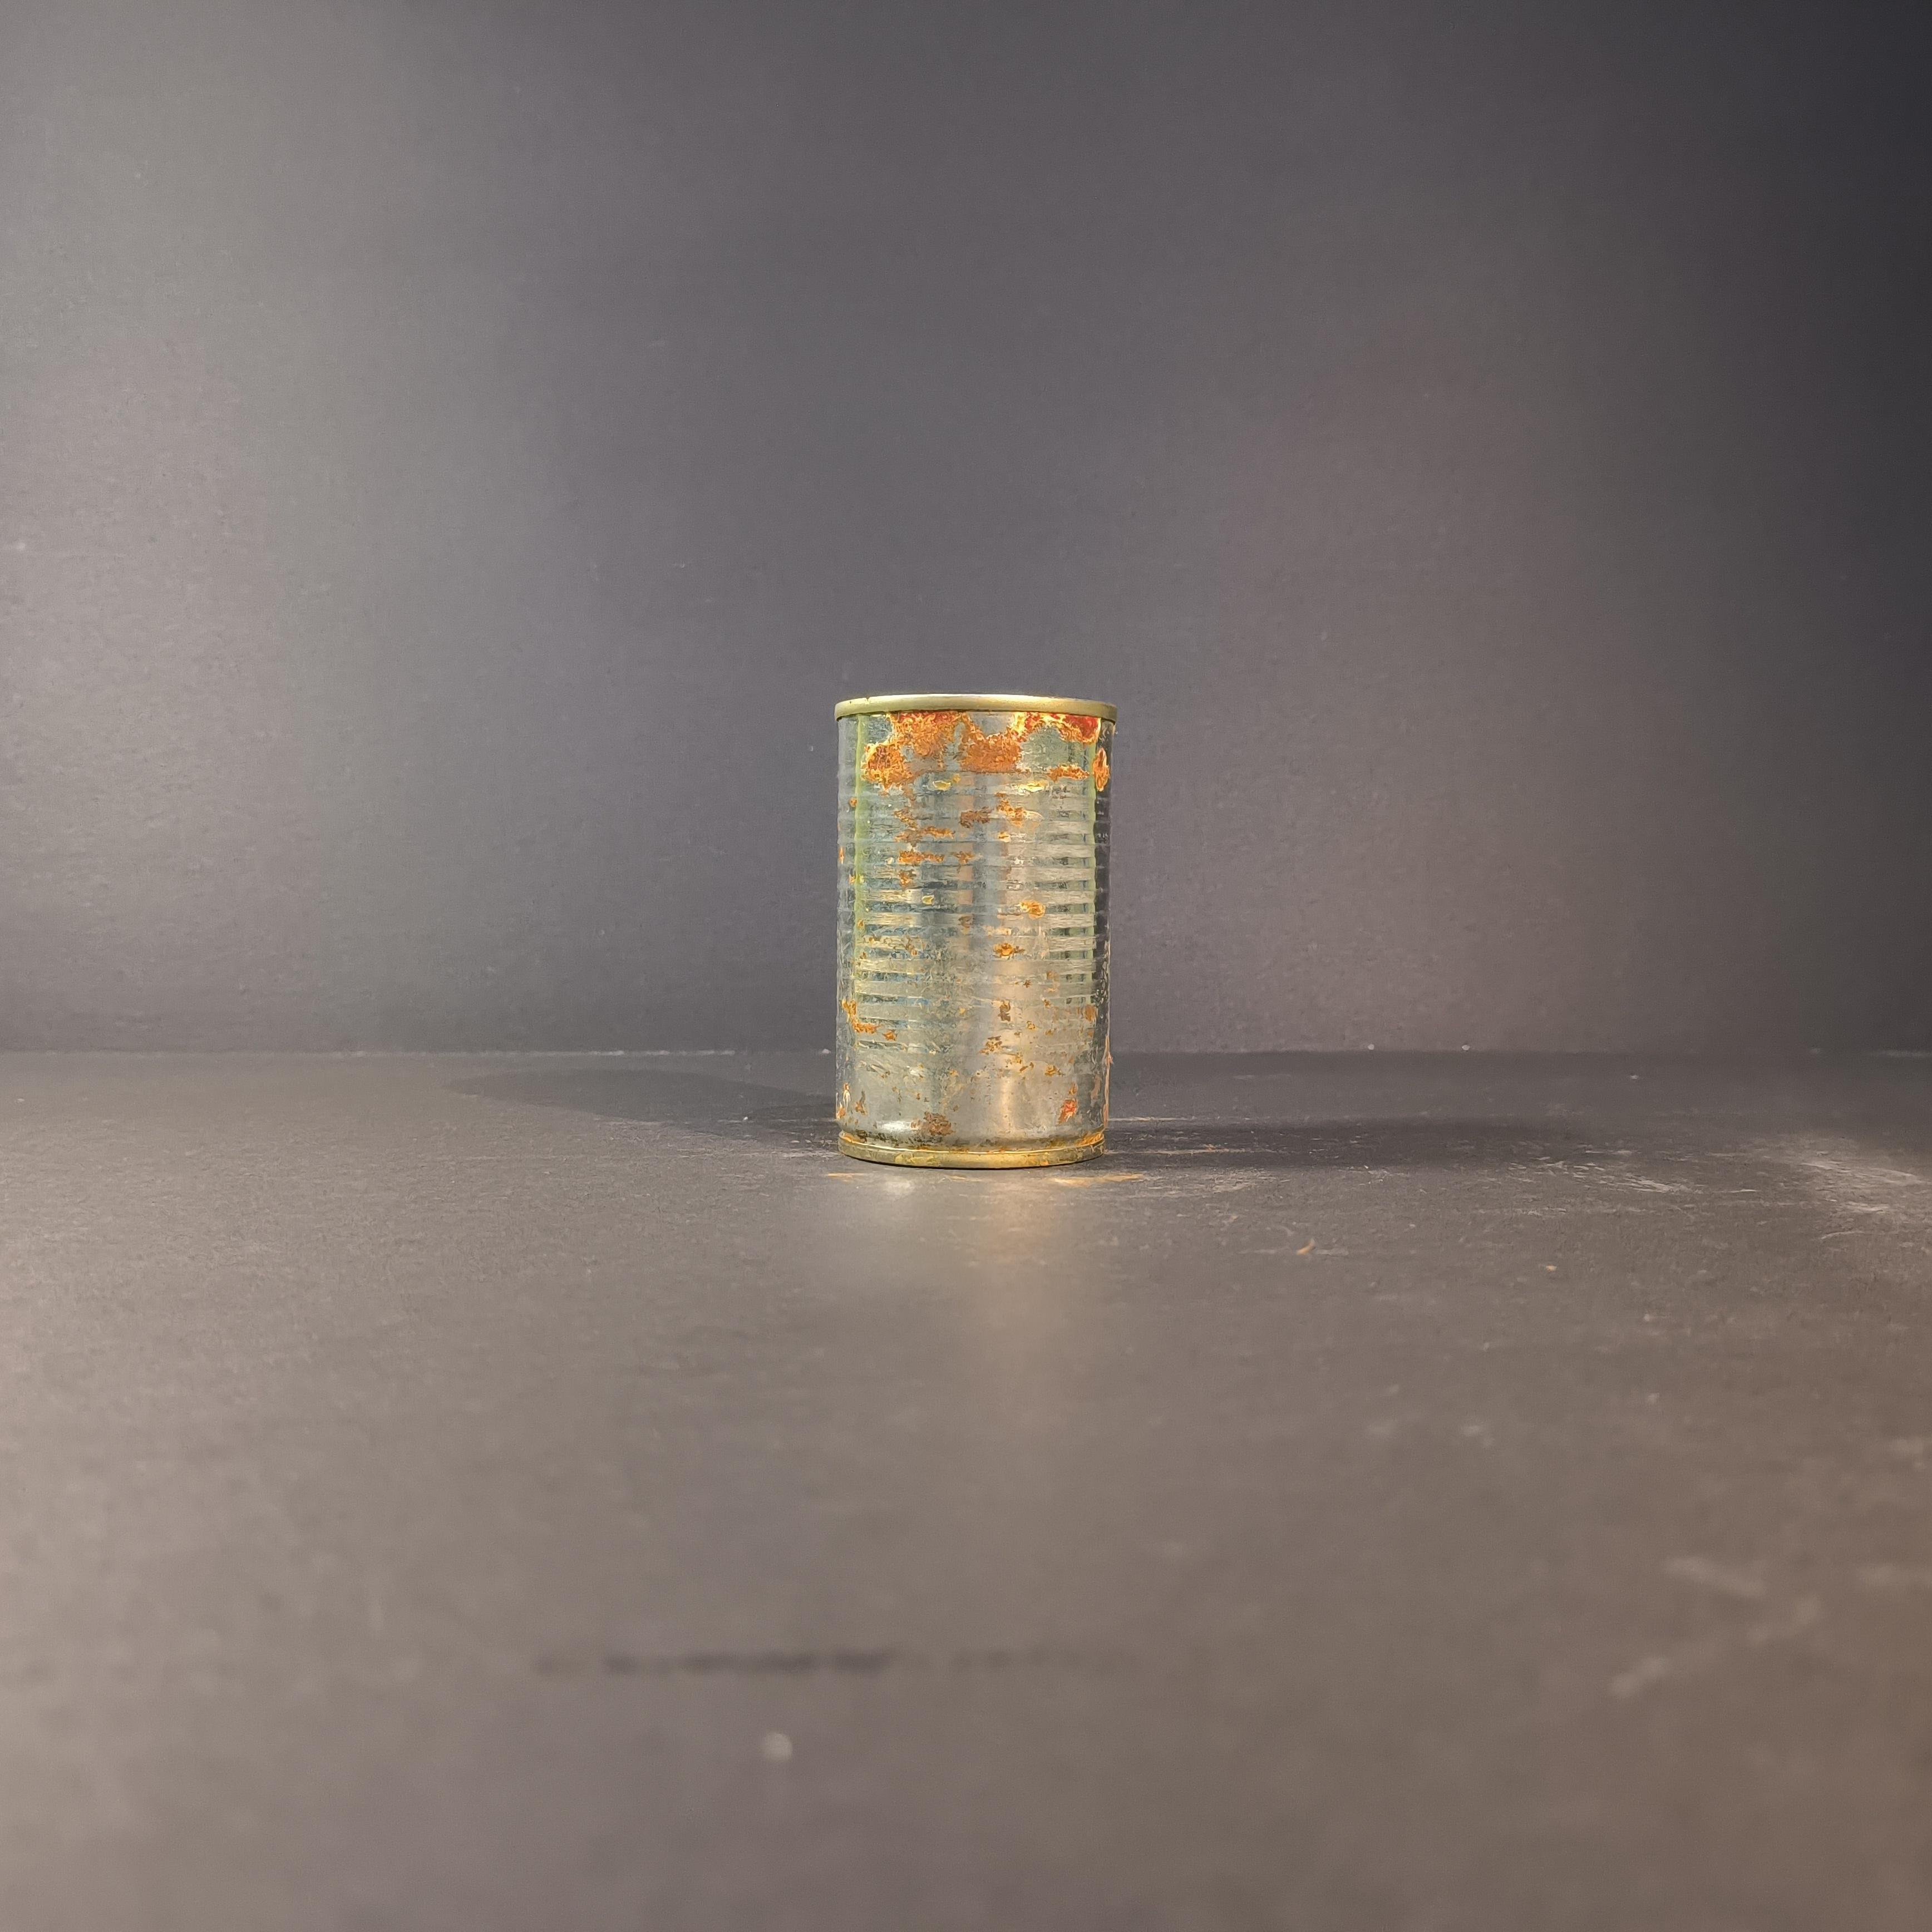Rusted: (826, 674, 1136, 1177)
